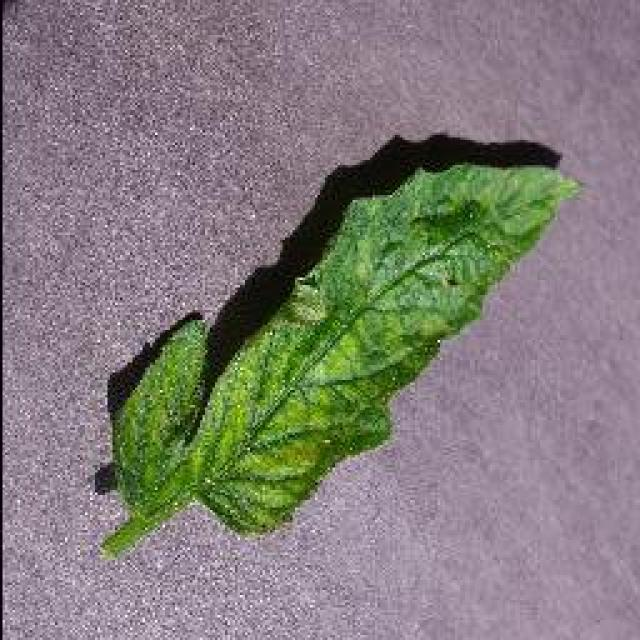Tomato___Tomato_mosaic_virus: (105, 165, 578, 552)
